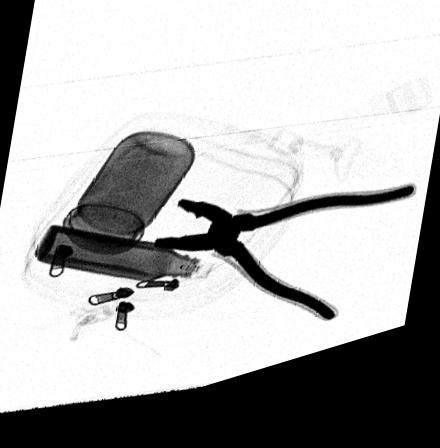Pliers: (152, 206, 419, 340)
